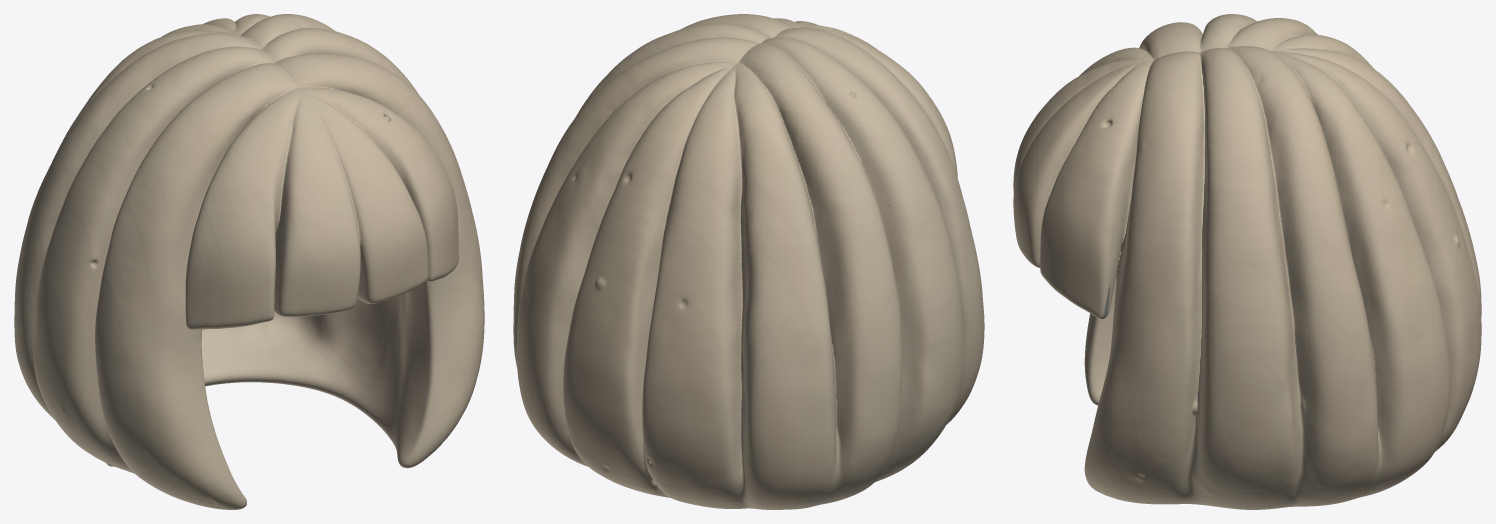
Rendered from hair_female_bob.glb.
3 views of the same model, side by side, from view 1: azimuth 30°, elevation 25°; view 2: azimuth 150°, elevation 25°; view 3: azimuth 270°, elevation 25° (orthographic).
Parts seen in each view (by area): view 1: tripo_node_8105cd2a-a07a-4f72-b844-888a4957ea0a; view 2: tripo_node_8105cd2a-a07a-4f72-b844-888a4957ea0a; view 3: tripo_node_8105cd2a-a07a-4f72-b844-888a4957ea0a.
Part boxes in pixels (bbox=[...]): tripo_node_8105cd2a-a07a-4f72-b844-888a4957ea0a: bbox=[14, 14, 484, 509]; tripo_node_8105cd2a-a07a-4f72-b844-888a4957ea0a: bbox=[513, 14, 984, 509]; tripo_node_8105cd2a-a07a-4f72-b844-888a4957ea0a: bbox=[1013, 14, 1481, 509].
Bounding box in the file's own units: 1 × 0.9442 × 0.9772.
Materials: 1 (1 with a texture image).
